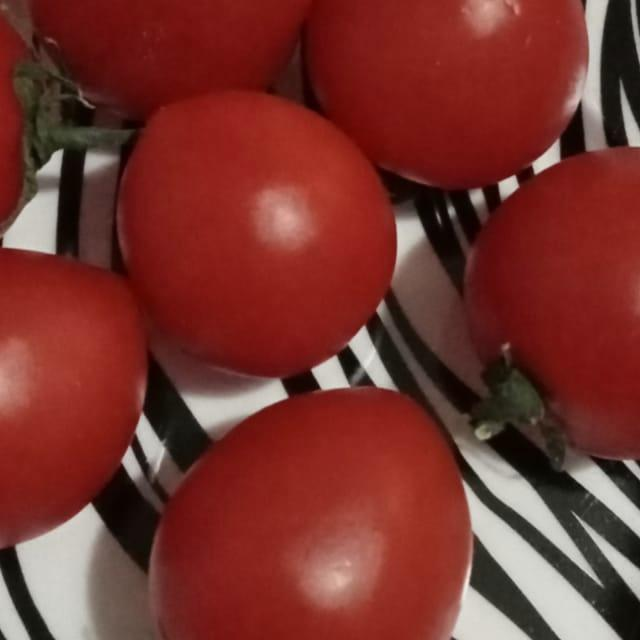tomato: (108, 342, 511, 640), (65, 66, 442, 376), (418, 109, 640, 486), (295, 0, 632, 186), (0, 216, 188, 549), (12, 0, 365, 112)
